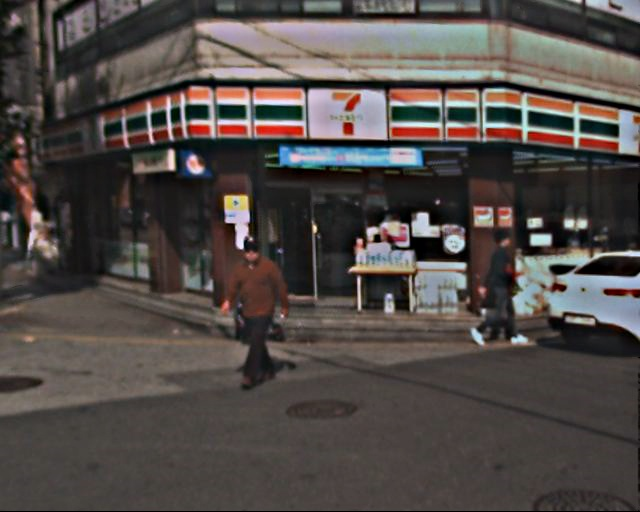person: (221, 237, 296, 390), (477, 228, 536, 348)
